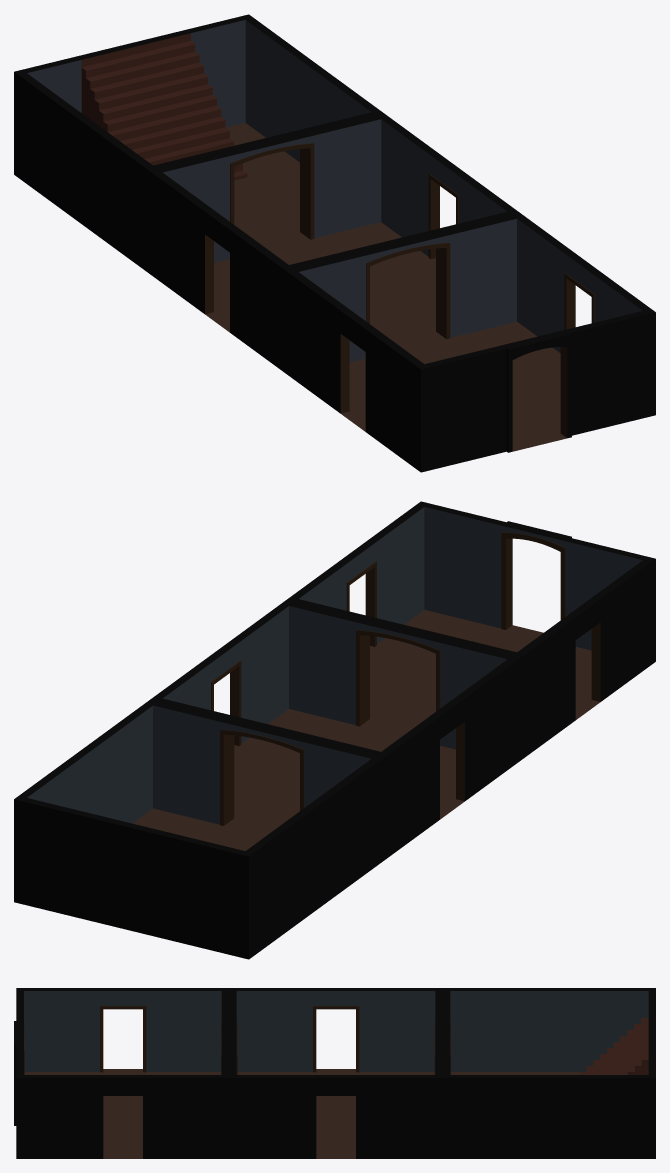
The model's file is HH_3x1_StarterTiles_Recolored.fbx.
3 renders of one model, top to bottom at view 1: azimuth 30°, elevation 25°; view 2: azimuth 150°, elevation 25°; view 3: azimuth 270°, elevation 25°, orthographic. The views are drawn at different scales.
Parts seen in each view (by area): view 1: HH_3x1_StarterTiles.001; view 2: HH_3x1_StarterTiles.001; view 3: HH_3x1_StarterTiles.001.
Part boxes in pixels (bbox=[...]): HH_3x1_StarterTiles.001: bbox=[14, 14, 655, 472]; HH_3x1_StarterTiles.001: bbox=[14, 501, 655, 959]; HH_3x1_StarterTiles.001: bbox=[14, 988, 655, 1158].
Size of the model in its own units: 1581 by 662 by 4762.
